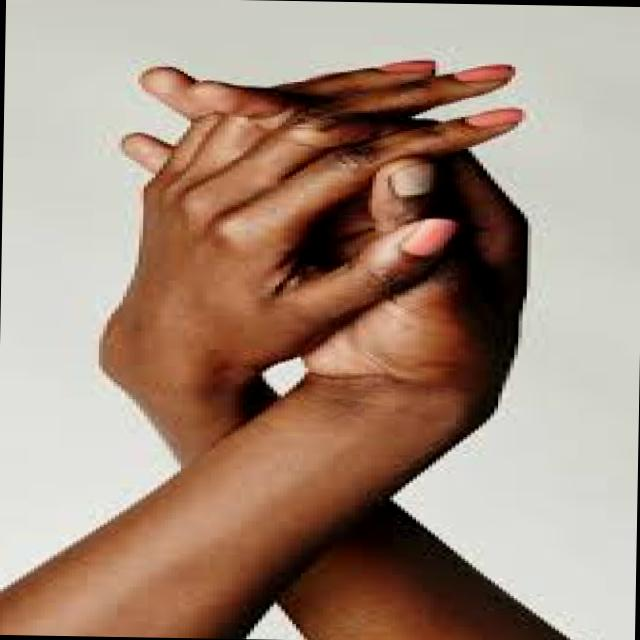Hand: (89, 46, 532, 396), (107, 58, 546, 410)
